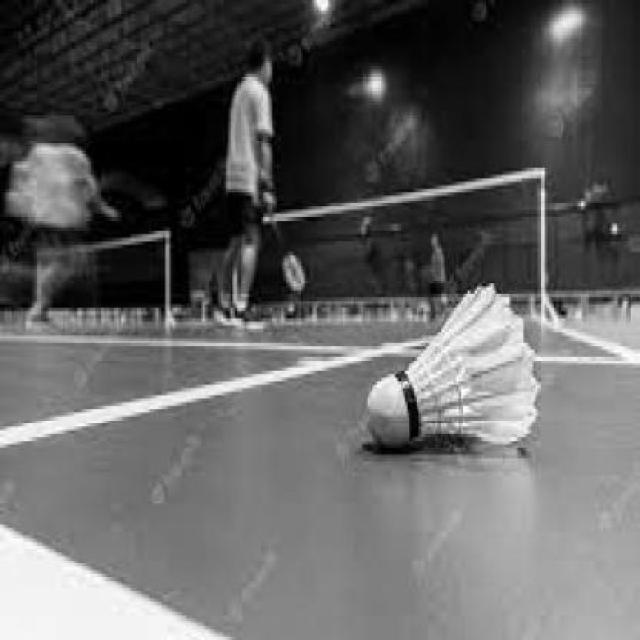Shuttlecock: (367, 281, 541, 451)
